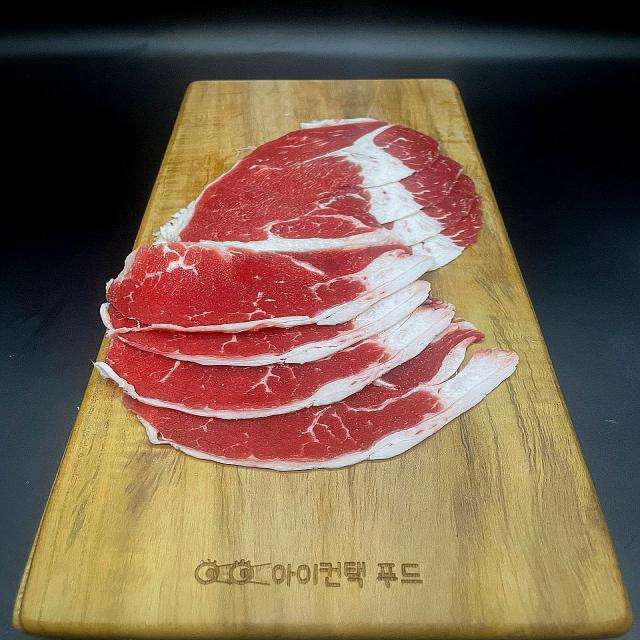beef: (179, 149, 444, 450)
